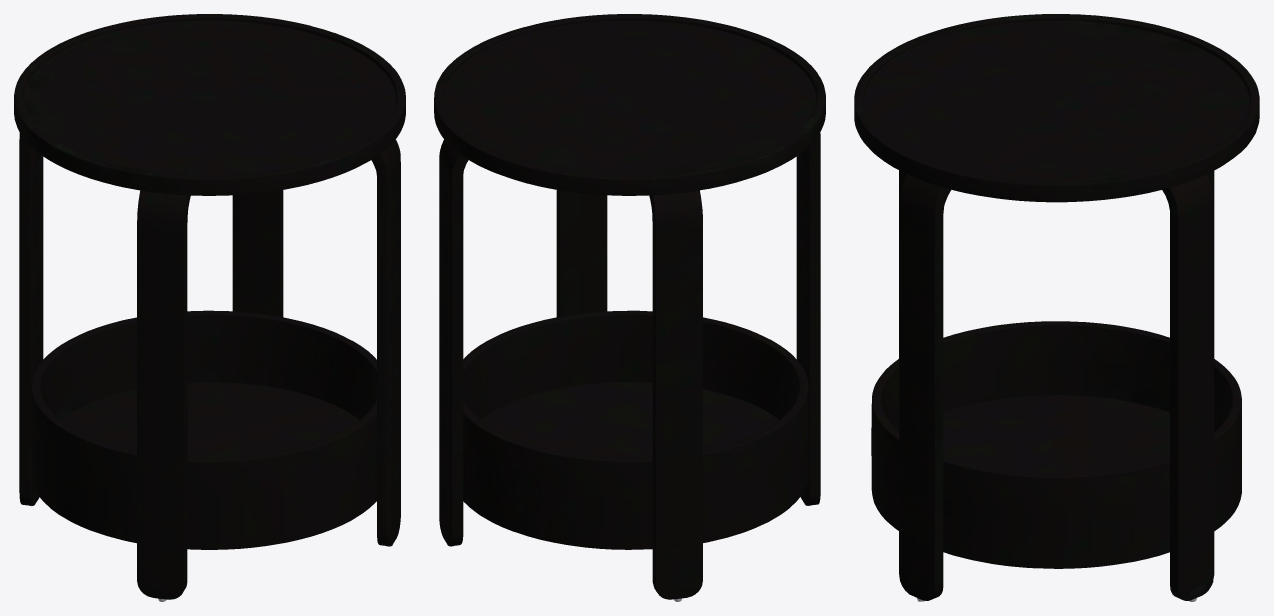
The model's file is 07 - BORGEBY - 邊桌，黑色，46 公分 IKEA 線上購物.glb.
3 renders of one model, left to right at view 1: azimuth 30°, elevation 25°; view 2: azimuth 150°, elevation 25°; view 3: azimuth 270°, elevation 25°, orthographic. The views are drawn at different scales.
Visible parts, largest first — view 1: ASY_ART_40619882_S01_NV01; view 2: ASY_ART_40619882_S01_NV01; view 3: ASY_ART_40619882_S01_NV01.
Part boxes in pixels (x1,y1,x2,y2): ASY_ART_40619882_S01_NV01: (14, 14, 405, 601); ASY_ART_40619882_S01_NV01: (434, 14, 825, 601); ASY_ART_40619882_S01_NV01: (854, 14, 1259, 601).
Bounding box in the file's own units: 0.4601 × 0.555 × 0.4598.
Materials: 1 (1 with a texture image).
